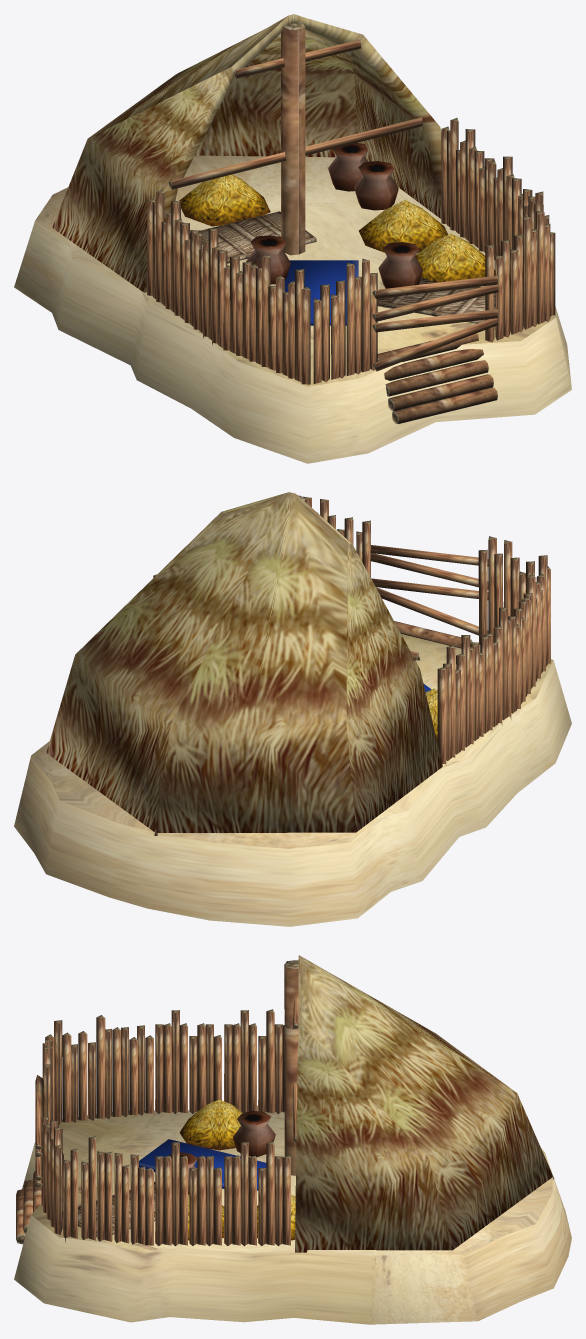
The model's file is corral.dae.
3 renders of one model, top to bottom at view 1: azimuth 30°, elevation 25°; view 2: azimuth 150°, elevation 25°; view 3: azimuth 270°, elevation 25°, orthographic. The views are drawn at different scales.
Parts seen in each view (by area): view 1: corral; view 2: corral; view 3: corral.
Part boxes in pixels (<box>): corral: <box>14,14,571,463</box>; corral: <box>14,492,571,926</box>; corral: <box>14,955,571,1324</box>.
Size of the model in its own units: 12.59 by 17.82 by 9.97.
